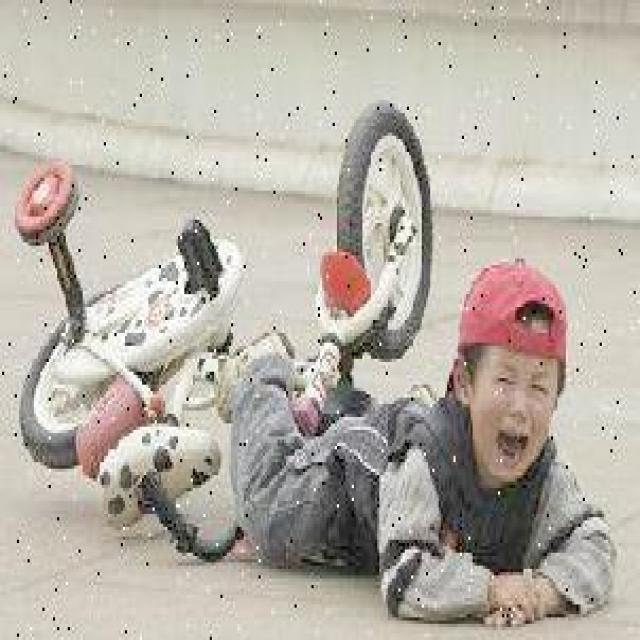fall: (231, 294, 625, 608)
